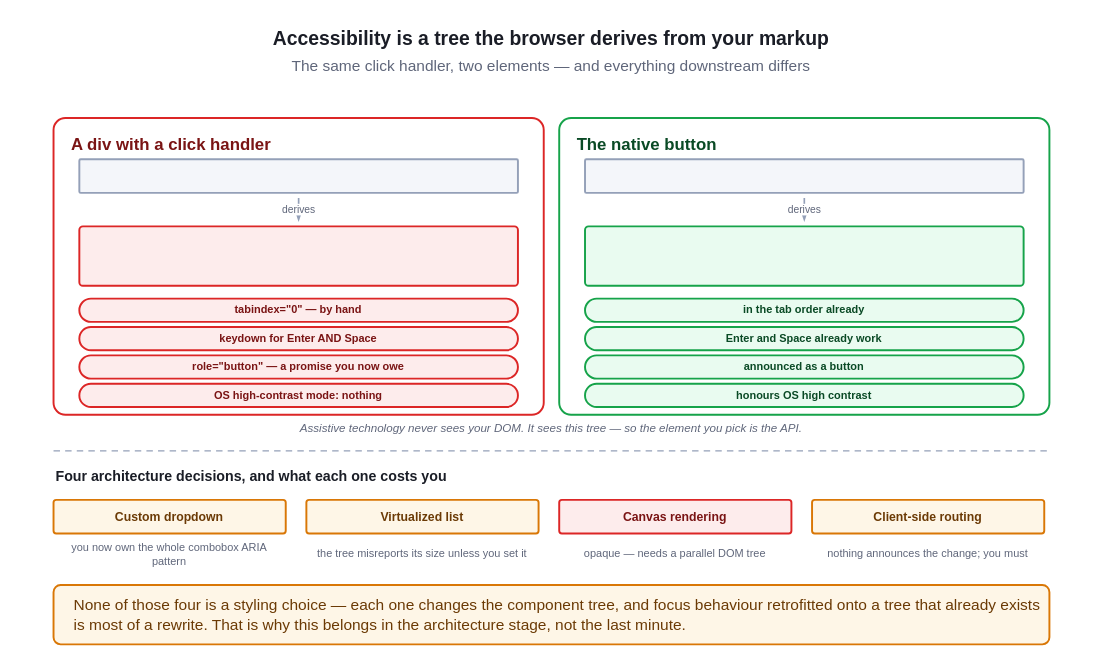
Some shapes in this 1102 by 667 pixel diagram are drawn without their labels. Here are the shapes that lost their labels. From the top down, the centre of each, then its label:
point (298, 175): <div onclick="save()">Save</div>
point (803, 175): <button onclick="save()">Save</button>
point (298, 255): role: generic name: (none) focusable: no
point (803, 255): role: button name: "Save" focusable: yes
